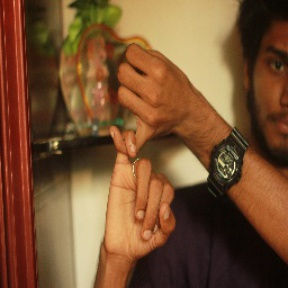S: (100, 42, 192, 248)
